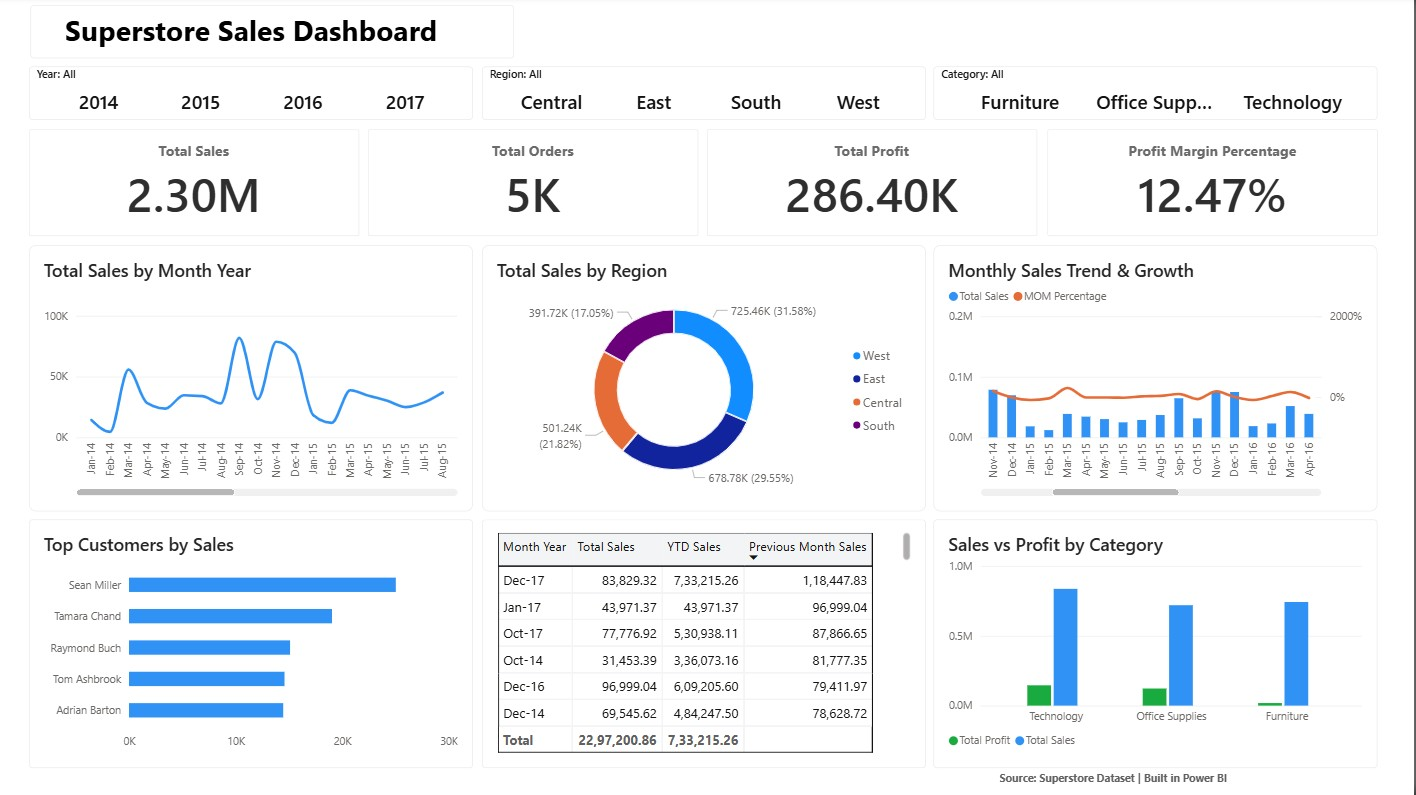

What the dashboard file says about the page in this screenshot:
{"tool":"powerbi","page":{"name":"Sales Overview","canvas":[1600,900],"ordinal":0},"visuals":[{"type":"cardVisual","fields":{"Data":["Z_Measures_.Total Profit"]},"box":[805,150,372,120],"z":0},{"type":"cardVisual","fields":{"Data":["Z_Measures_.Total Orders"]},"box":[422,150,372,120],"z":1000},{"type":"cardVisual","fields":{"Data":["Z_Measures_.Profit Margin Percentage"]},"box":[1187,150,372,120],"z":2000},{"type":"cardVisual","fields":{"Data":["Z_Measures_.Total Sales"]},"box":[40,150,372,120],"z":3000},{"type":"lineChart","fields":{"Category":["Calendar.Month Year"],"Y":["Z_Measures_.Total Sales"]},"box":[40,280,500,300],"z":4000},{"type":"slicer","fields":{"Values":["Orders.Region"]},"box":[550,80,500,60],"z":5000},{"type":"slicer","fields":{"Values":["Calendar.Year"]},"box":[40,80,500,60],"z":6000},{"type":"slicer","fields":{"Values":["Orders.Category"]},"box":[1060,80,500,60],"z":7000},{"type":"barChart","title":"Top Customers by Sales","fields":{"Category":["Orders.Customer Name"],"Y":["Z_Measures_.Total Sales"]},"box":[40.5,590,500,280],"z":8000},{"type":"donutChart","fields":{"Category":["Orders.Region"],"Y":["Z_Measures_.Total Sales"]},"box":[550,280,500,300],"z":9000},{"type":"clusteredColumnChart","title":"Sales vs Profit by Category","fields":{"Category":["Orders.Category"],"Y":["Z_Measures_.Total Profit","Z_Measures_.Total Sales"]},"box":[1060,590,500,280],"z":10000},{"type":"tableEx","fields":{"Values":["Calendar.Month Year","Z_Measures_.Total Sales","Z_Measures_.YTD Sales","Z_Measures_.Previous Month Sales"]},"box":[550,590,500,280],"z":11000},{"type":"lineClusteredColumnComboChart","title":"Monthly Sales Trend & Growth","fields":{"Category":["Calendar.Month Year"],"Y":["Z_Measures_.Total Sales"],"Y2":["Z_Measures_.MOM Percentage"]},"box":[1060,280,500,300],"z":12000},{"type":"textbox","box":[42.4,10,545,60],"z":14000},{"type":"textbox","box":[1134.4,870.2,464.9,29.8],"z":14001}]}

Visuals, with their boxes in screenshot pixels (x1, y1, x2, y2), scaled from the page's 1600x900 canvas onto the 1416x795 screenshot:
cardVisual - Z_Measures_.Total Profit: x1=712 y1=132 x2=1042 y2=238
cardVisual - Z_Measures_.Total Orders: x1=373 y1=132 x2=703 y2=238
cardVisual - Z_Measures_.Profit Margin Percentage: x1=1050 y1=132 x2=1380 y2=238
cardVisual - Z_Measures_.Total Sales: x1=35 y1=132 x2=365 y2=238
lineChart - Calendar.Month Year x Z_Measures_.Total Sales: x1=35 y1=247 x2=478 y2=512
slicer - Orders.Region: x1=487 y1=71 x2=929 y2=124
slicer - Calendar.Year: x1=35 y1=71 x2=478 y2=124
slicer - Orders.Category: x1=938 y1=71 x2=1381 y2=124
"Top Customers by Sales" barChart: x1=36 y1=521 x2=478 y2=768
donutChart - Orders.Region x Z_Measures_.Total Sales: x1=487 y1=247 x2=929 y2=512
"Sales vs Profit by Category" clusteredColumnChart: x1=938 y1=521 x2=1381 y2=768
tableEx - Calendar.Month Year x Z_Measures_.Total Sales: x1=487 y1=521 x2=929 y2=768
"Monthly Sales Trend & Growth" lineClusteredColumnComboChart: x1=938 y1=247 x2=1381 y2=512
textbox: x1=38 y1=9 x2=520 y2=62
textbox: x1=1004 y1=769 x2=1415 y2=794
